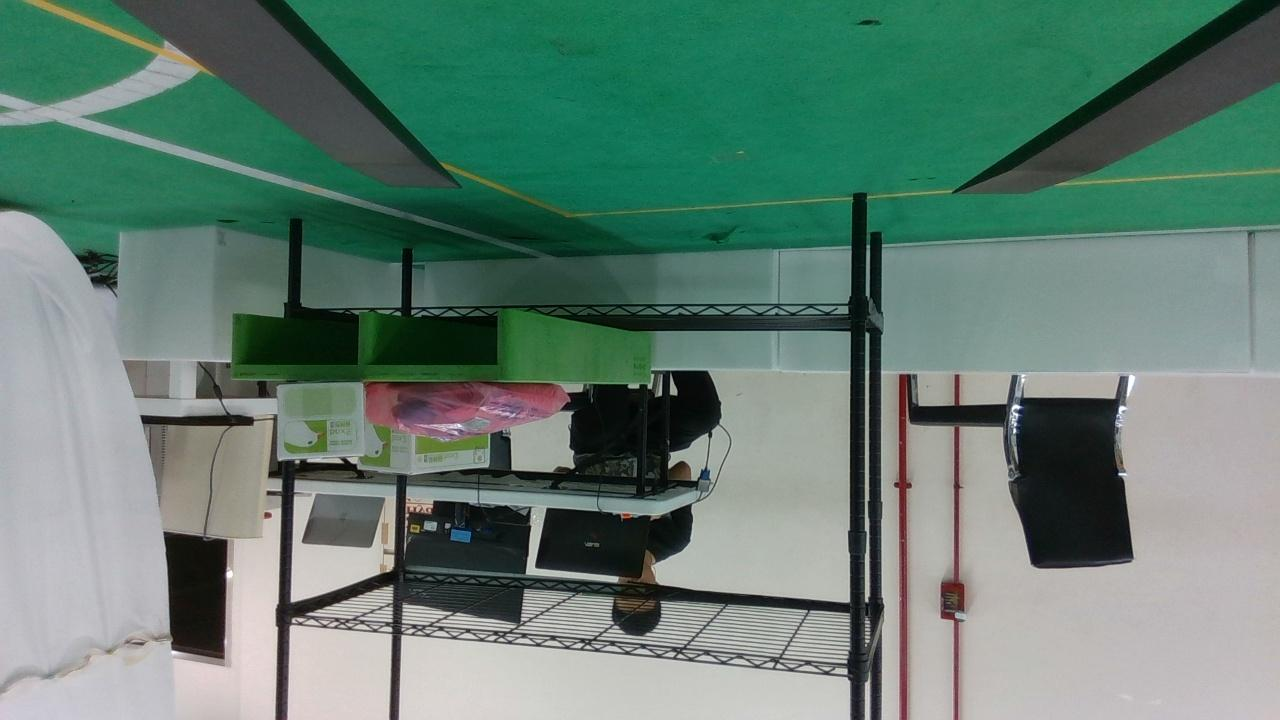Pallet: (229, 308, 519, 383)
